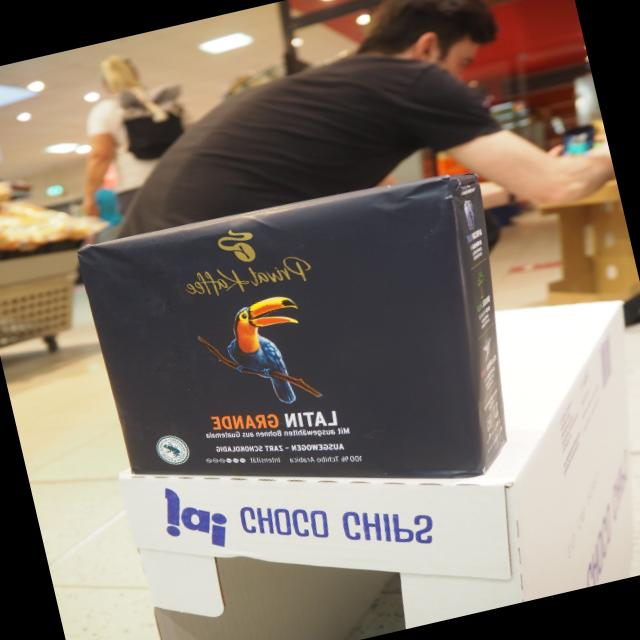LG Gemahlen: (72, 170, 492, 477)
